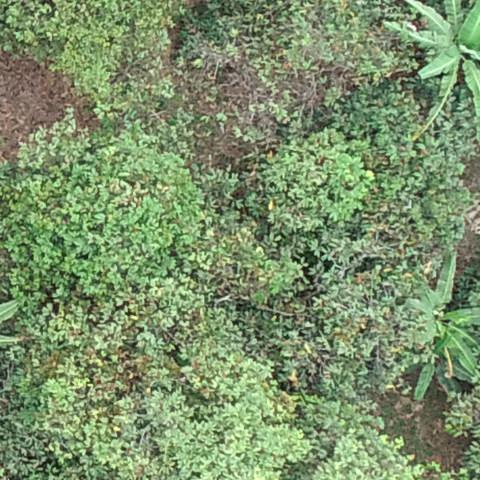Banana-plant: (402, 0, 480, 119), (419, 253, 480, 399)
